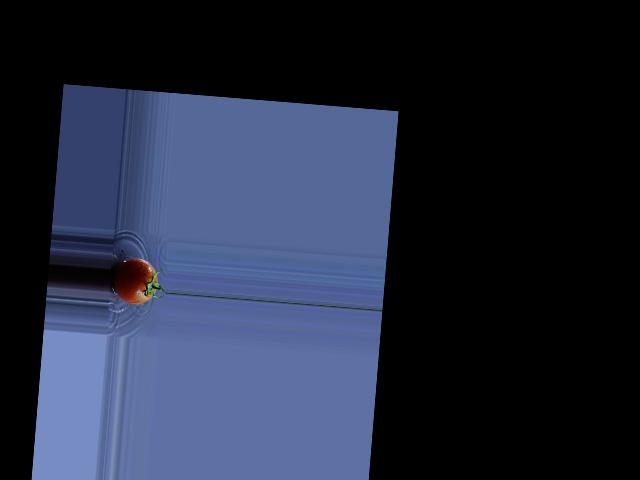tomato: (111, 256, 158, 305)
